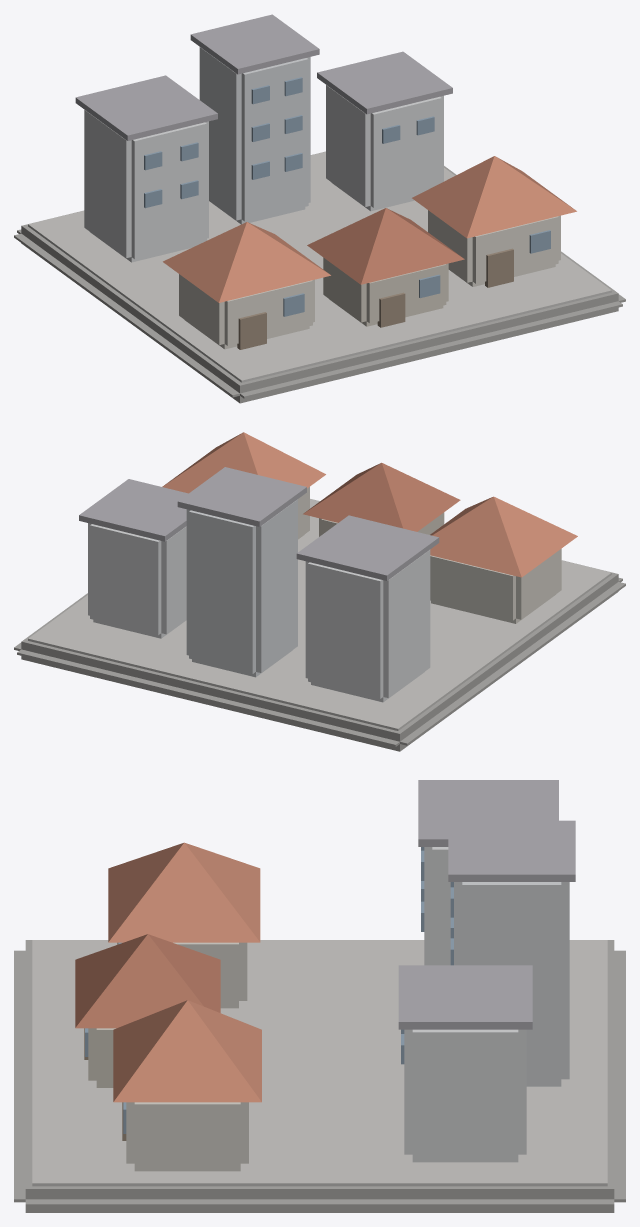
The model's file is Settlement_City.glb.
3 renders of one model, top to bottom at view 1: azimuth 30°, elevation 25°; view 2: azimuth 150°, elevation 25°; view 3: azimuth 270°, elevation 25°, orthographic. The views are drawn at different scales.
Visible parts, largest first — view 1: body, windows; view 2: body; view 3: body, windows.
Boxes of the visible parts, left/top/right/bottom form: body: left=14, top=14, right=625, bottom=403; windows: left=144, top=77, right=550, bottom=316; body: left=14, top=432, right=625, bottom=751; body: left=14, top=780, right=625, bottom=1212; windows: left=85, top=847, right=453, bottom=1133.
Size of the model in its own units: 3.7 by 1.63 by 3.7.
